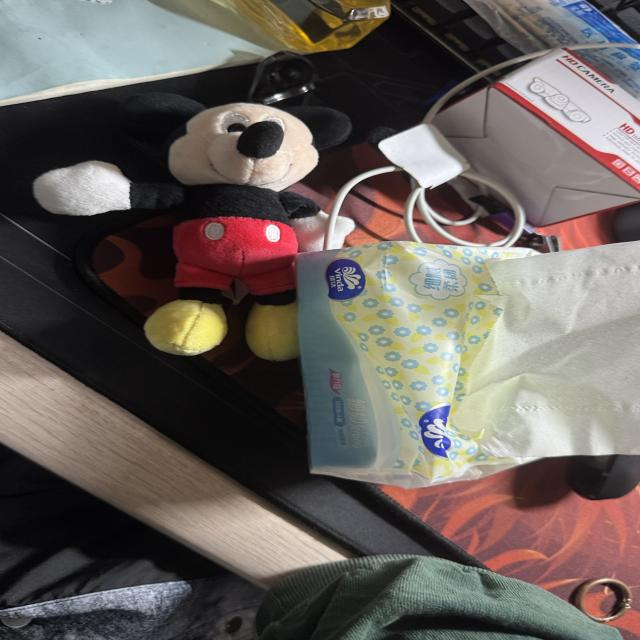mickey: (34, 94, 350, 360)
tissue: (455, 242, 639, 457)
